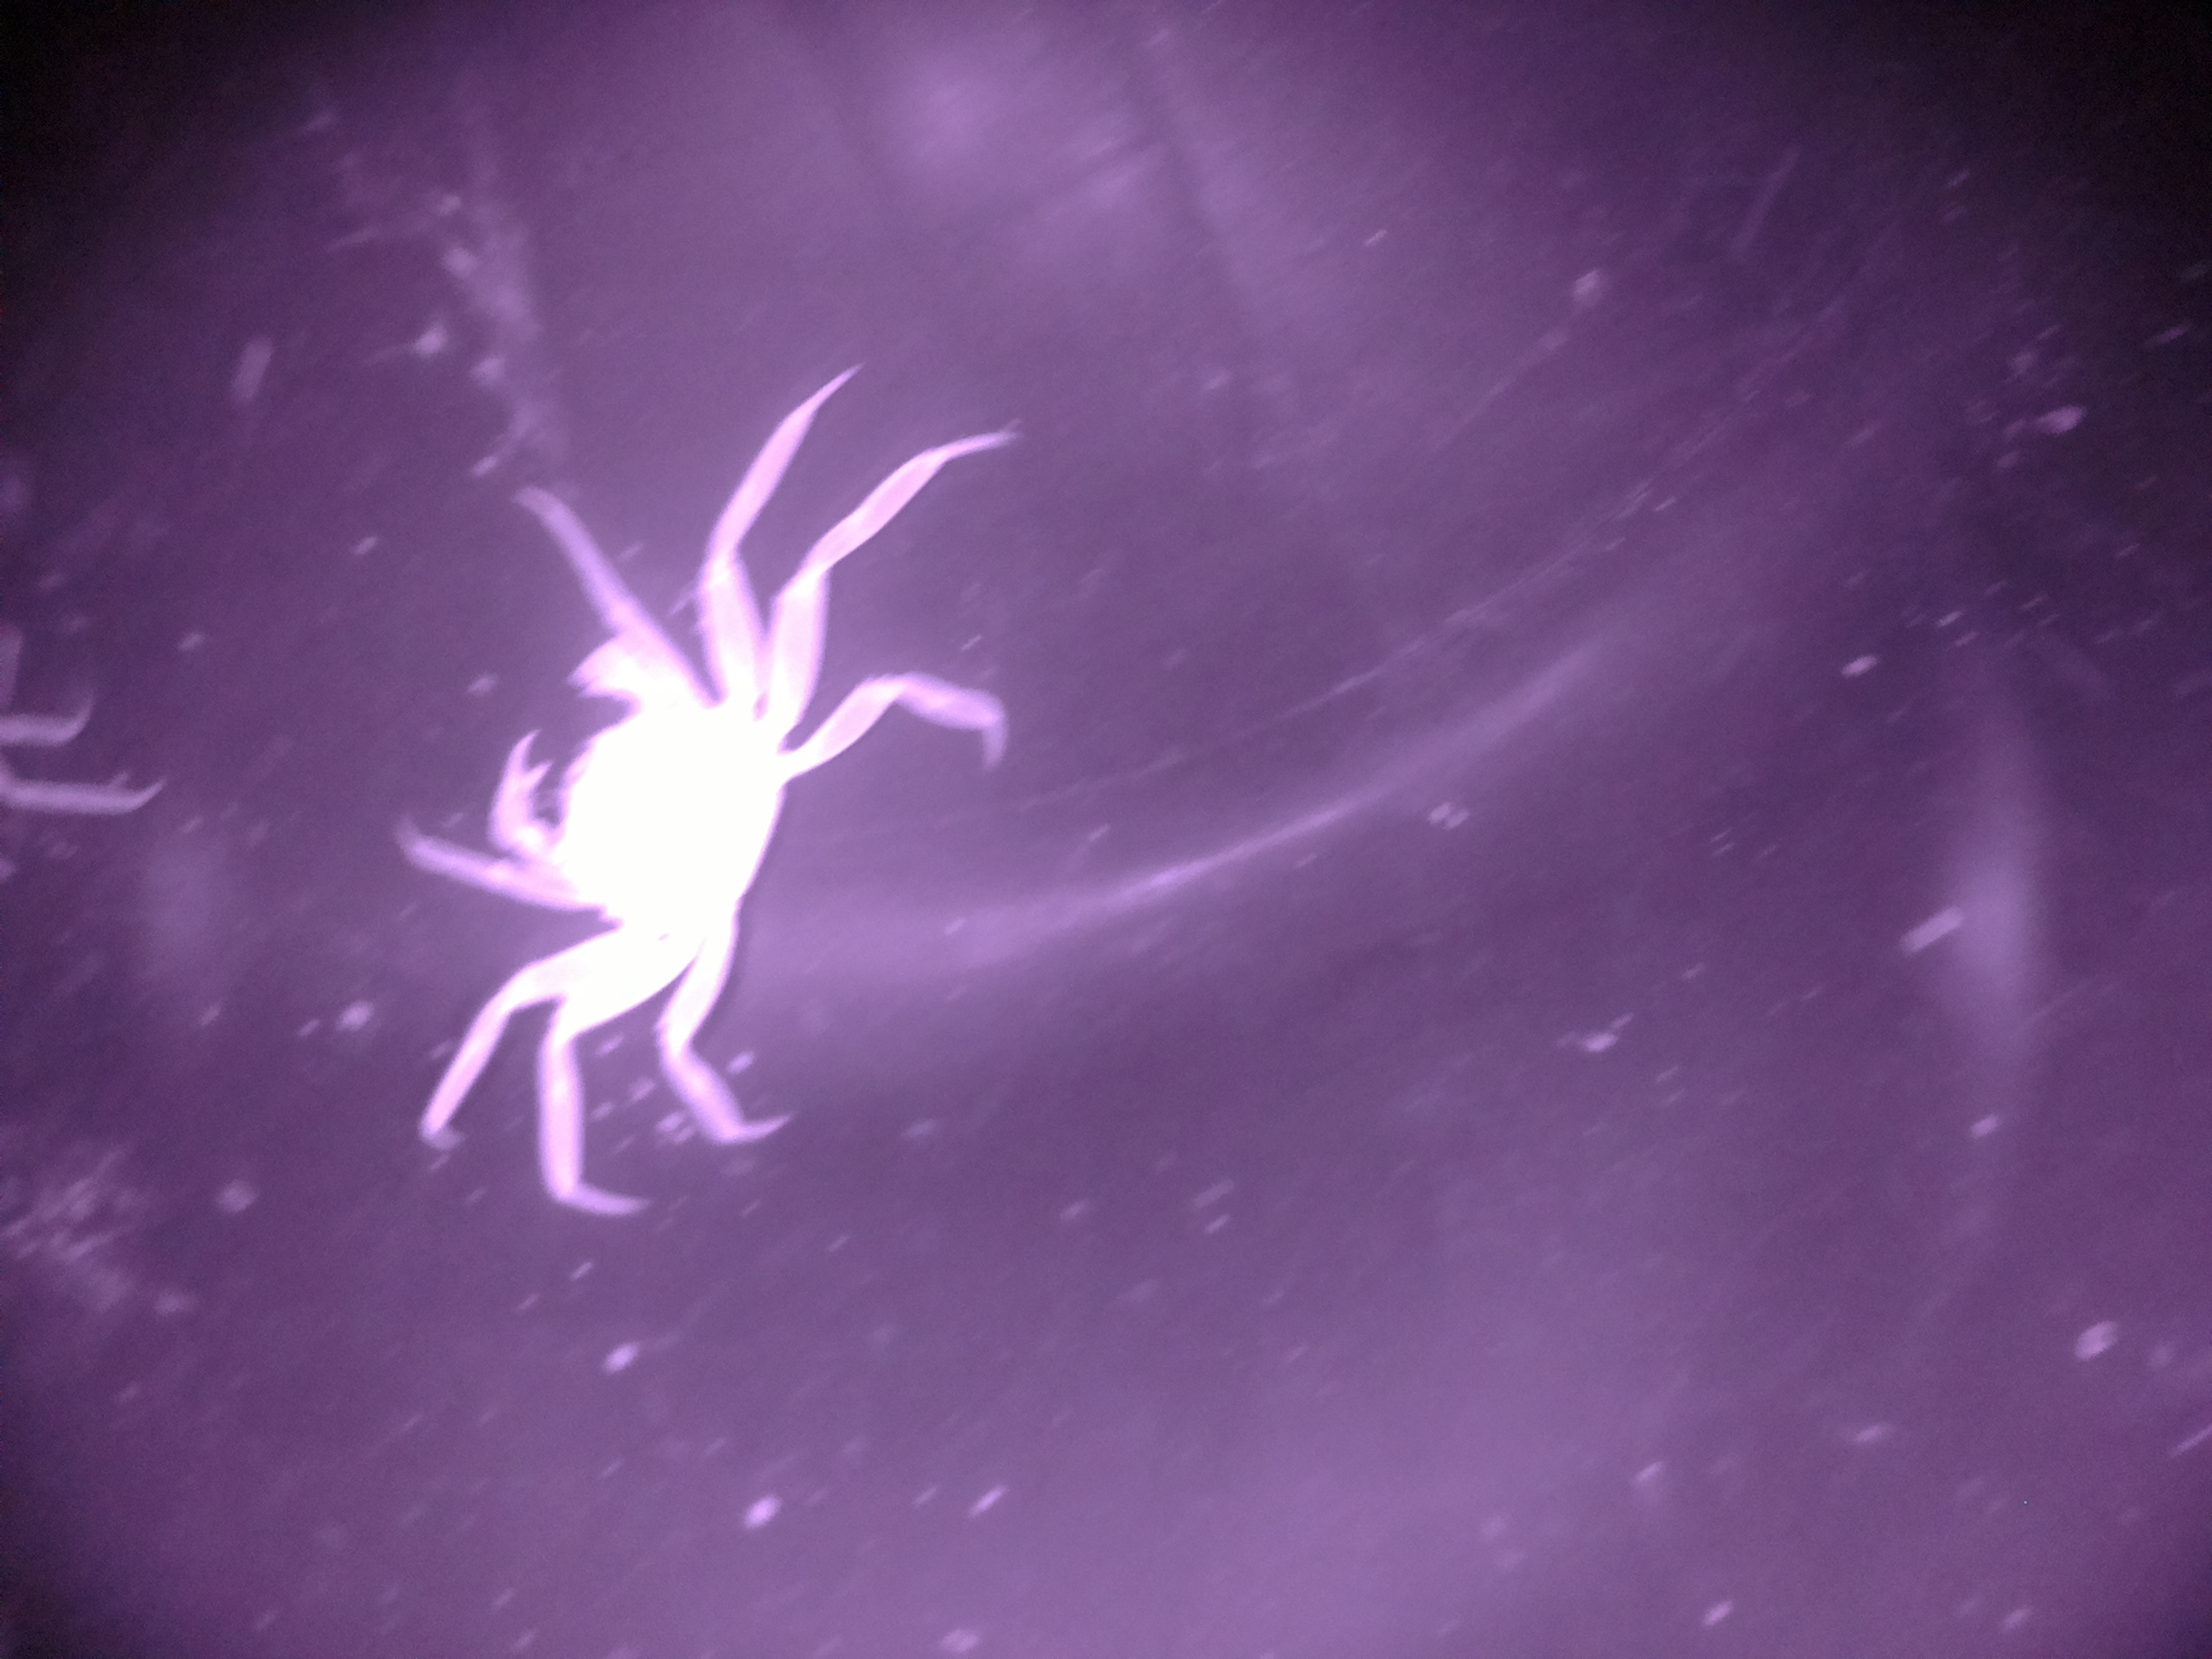Crab: (341, 497, 961, 1086)
